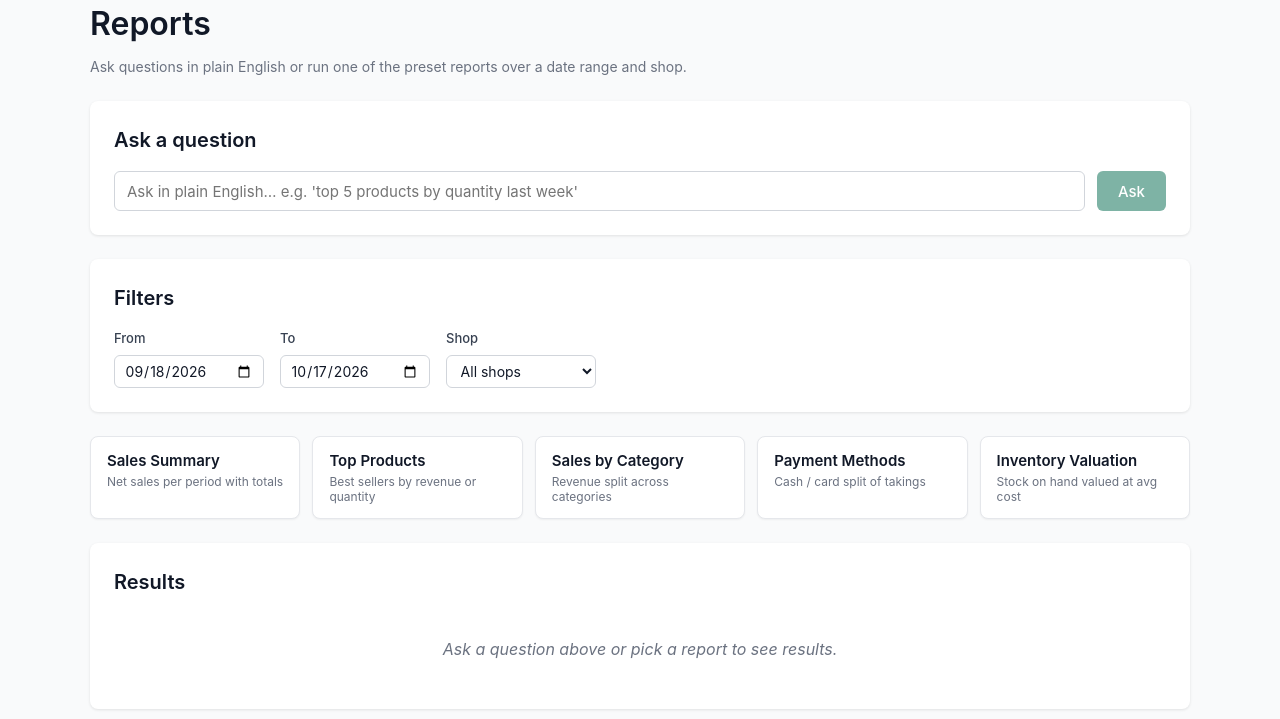
Test: Reports page › surfaces report fetch failures in the error banner
Click the button "Sales Summary Net sales per period with totals": [195, 478] box [90,436,300,520]
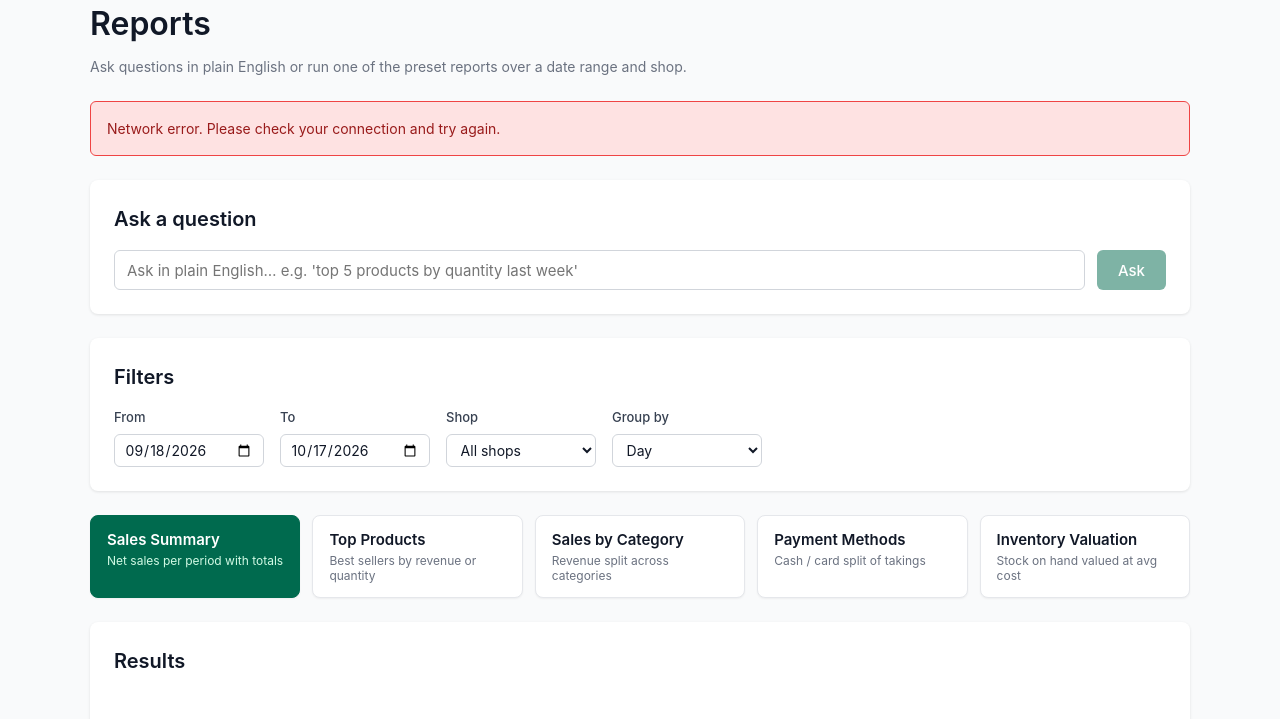
Expected: the message shows "Network error", [107,120,500,137]
